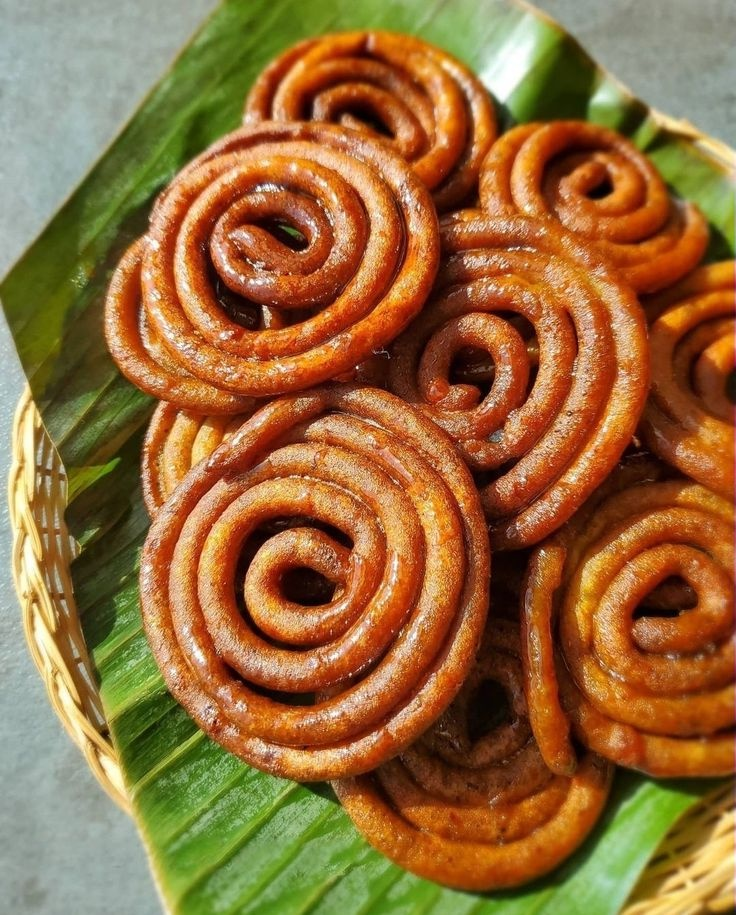pani_walalu: (137, 385, 491, 784), (365, 212, 644, 542), (133, 118, 436, 381), (523, 481, 736, 781), (242, 29, 497, 198), (502, 112, 708, 282)
